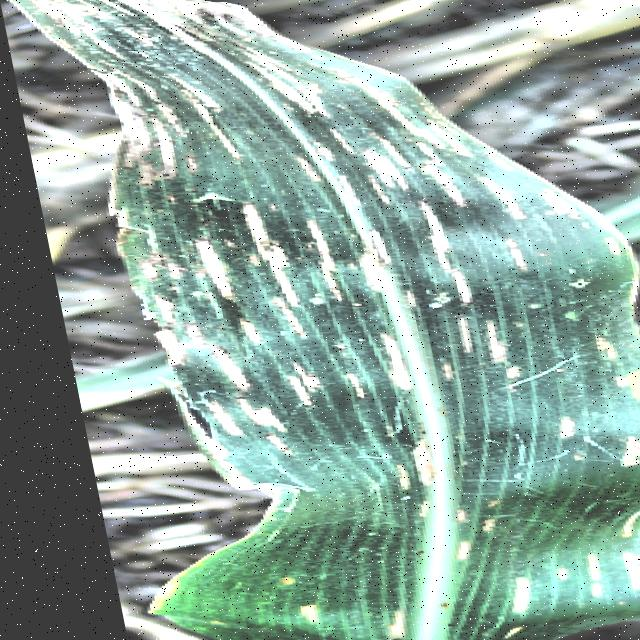gray_spot: (32, 0, 640, 640)
